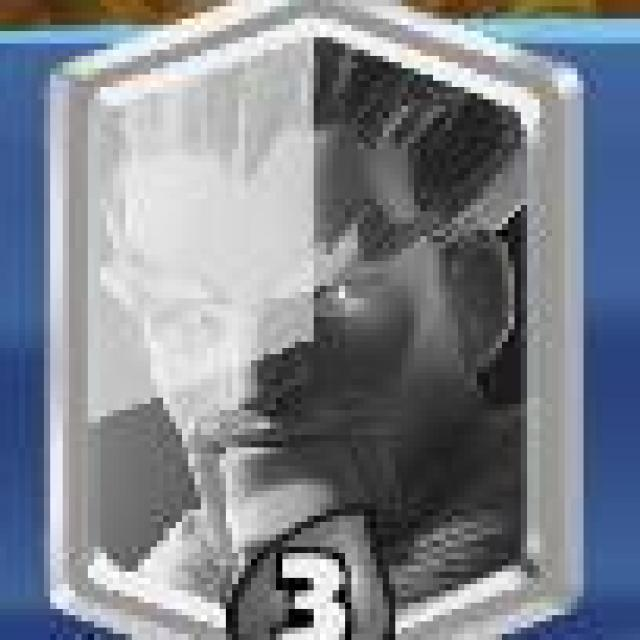Ice_Wizard: (76, 5, 580, 640)
